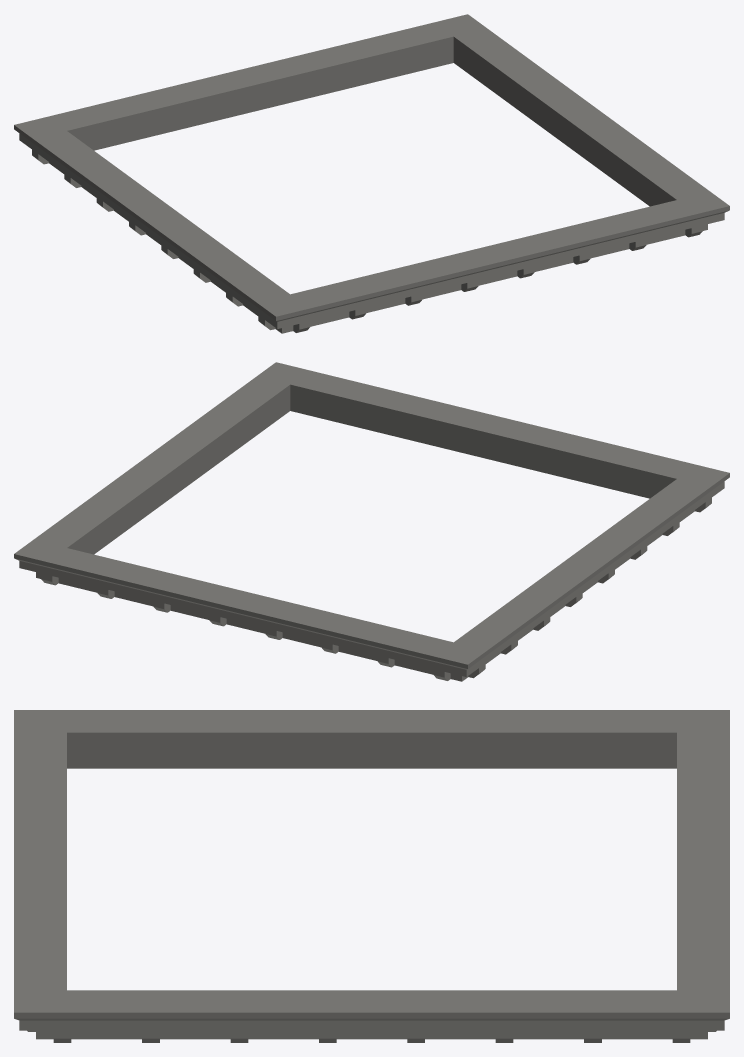
Rendered from SM_Bldg_City_High-Rise_02_03_Cornice_01.fbx.
3 renders of one model, top to bottom at view 1: azimuth 30°, elevation 25°; view 2: azimuth 150°, elevation 25°; view 3: azimuth 270°, elevation 25°, orthographic. The views are drawn at different scales.
Visible parts, largest first — view 1: SM_Bldg_City_High-Rise_02&03_Cornice_01; view 2: SM_Bldg_City_High-Rise_02&03_Cornice_01; view 3: SM_Bldg_City_High-Rise_02&03_Cornice_01.
Boxes of the visible parts, <box> form: SM_Bldg_City_High-Rise_02&03_Cornice_01: <box>14,14,729,333</box>; SM_Bldg_City_High-Rise_02&03_Cornice_01: <box>14,362,729,681</box>; SM_Bldg_City_High-Rise_02&03_Cornice_01: <box>14,710,729,1042</box>.
Bounding box in the file's own units: 1620 × 90 × 1620.
